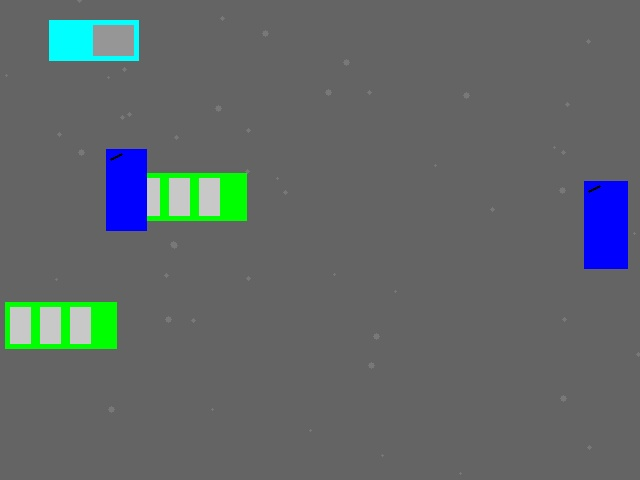bus: (134, 173, 246, 220), (5, 302, 116, 348)
motorcycle: (584, 181, 627, 268), (106, 149, 146, 230)
truck: (49, 20, 138, 60)
